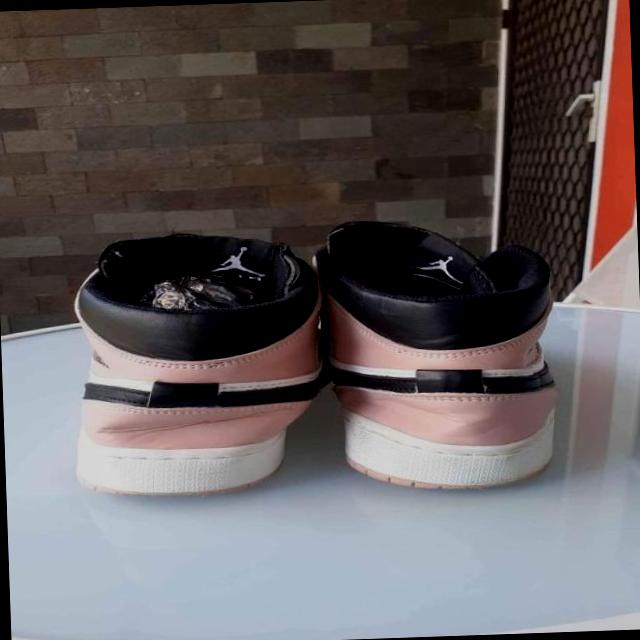nike_fake_jordan: (61, 226, 330, 500), (313, 212, 570, 495)
